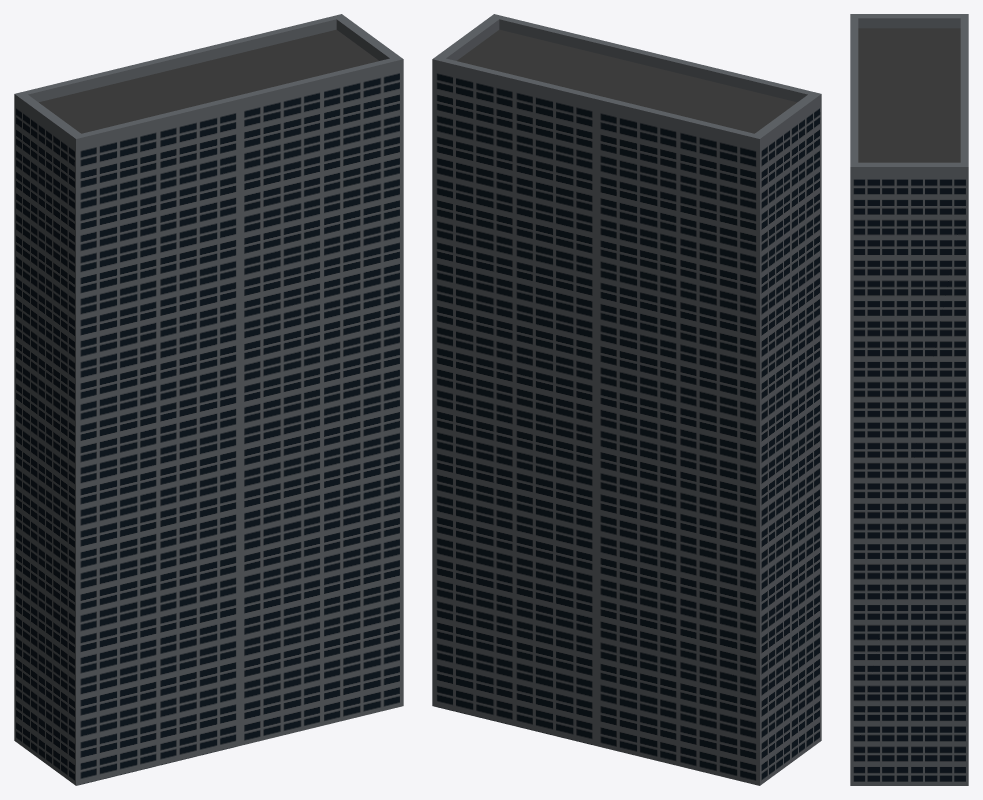
Rendered from SM_Env_Background_Building_Skinny_01.fbx.
3 views of the same model, side by side, from view 1: azimuth 30°, elevation 25°; view 2: azimuth 150°, elevation 25°; view 3: azimuth 270°, elevation 25° (orthographic). The views are drawn at different scales.
Parts seen in each view (by area): view 1: SM_Env_Background_Building_Skinny_01; view 2: SM_Env_Background_Building_Skinny_01; view 3: SM_Env_Background_Building_Skinny_01.
Boxes of the visible parts, x1,y1,x2,y2 form: SM_Env_Background_Building_Skinny_01: (14,14,403,785); SM_Env_Background_Building_Skinny_01: (432,14,821,785); SM_Env_Background_Building_Skinny_01: (850,14,968,785).
Bounding box in the file's own units: 3809 × 7191 × 1244.
